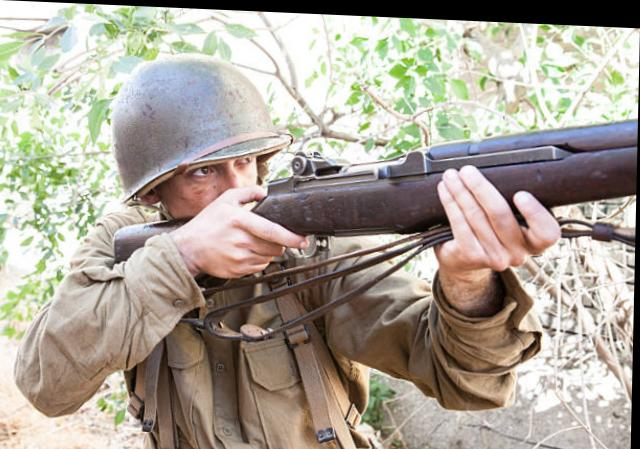other: (48, 82, 525, 448)
